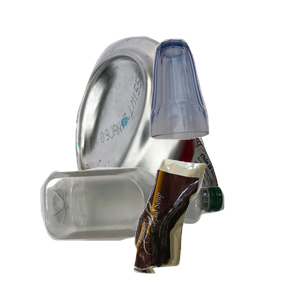glass: (147, 36, 300, 168)
metal: (73, 34, 285, 214)
plastic: (38, 165, 255, 300)
trash: (131, 157, 300, 300)
